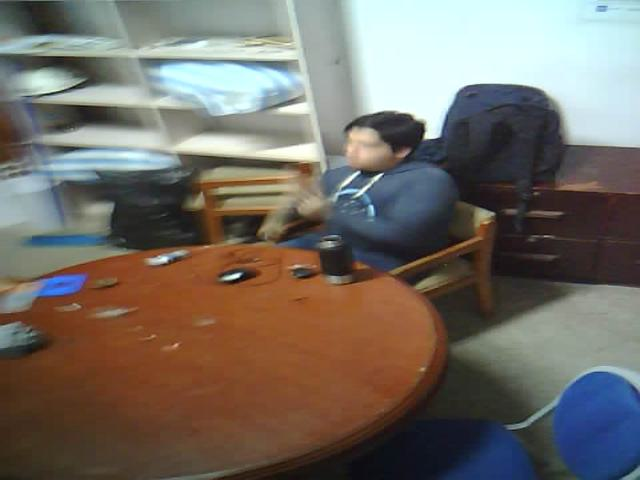person: (262, 58, 492, 316)
